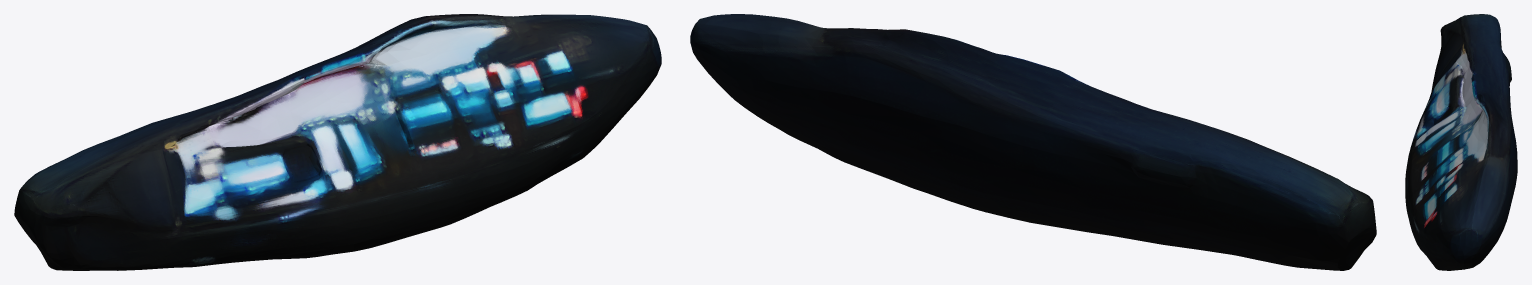
3 views of the same model, side by side, from view 1: azimuth 30°, elevation 25°; view 2: azimuth 150°, elevation 25°; view 3: azimuth 270°, elevation 25° (orthographic). The views are drawn at different scales.
Parts seen in each view (by area): view 1: world; view 2: world; view 3: world.
Boxes of the visible parts, <box> form: world: <box>14,14,661,270</box>; world: <box>690,14,1376,270</box>; world: <box>1405,14,1517,270</box>.
Bounding box in the file's own units: 0.9991 × 0.267 × 0.2013.
Materials: 1 (1 with a texture image).
